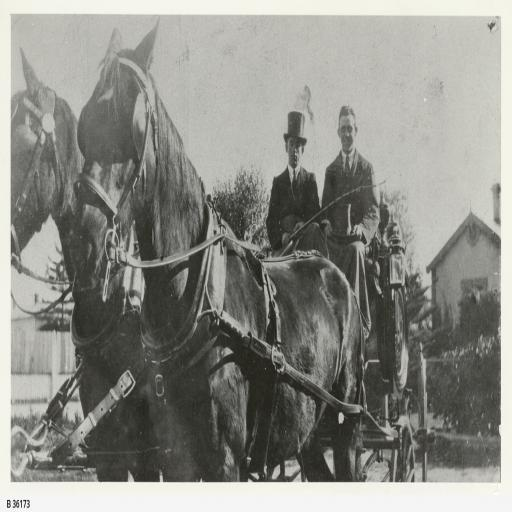Horse: (67, 14, 362, 478), (9, 38, 160, 479)
